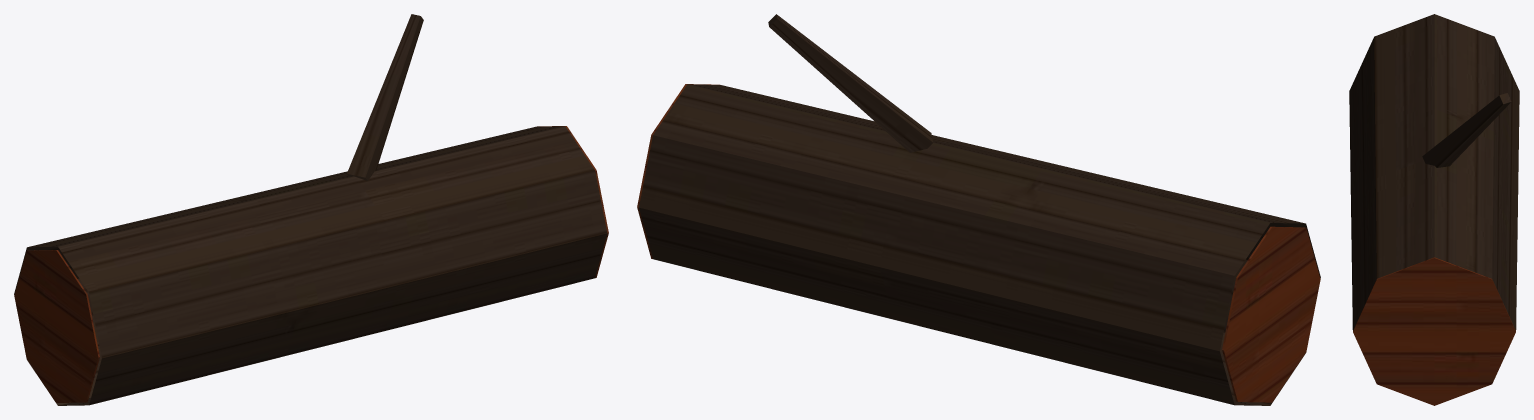
Rendered from log_01.glb.
The picture shows the model from 3 angles, left to right: view 1: azimuth 30°, elevation 25°; view 2: azimuth 150°, elevation 25°; view 3: azimuth 270°, elevation 25°; orthographic projection. The views are drawn at different scales.
Visible parts, largest first — view 1: log_01; view 2: log_01; view 3: log_01.
Boxes of the visible parts, x1,y1,x2,y2 form: log_01: (14, 14, 608, 405); log_01: (637, 14, 1320, 405); log_01: (1349, 14, 1519, 405).
Size of the model in its own units: 1.61 by 0.8104 by 0.48.
2 materials, 2 textured.
